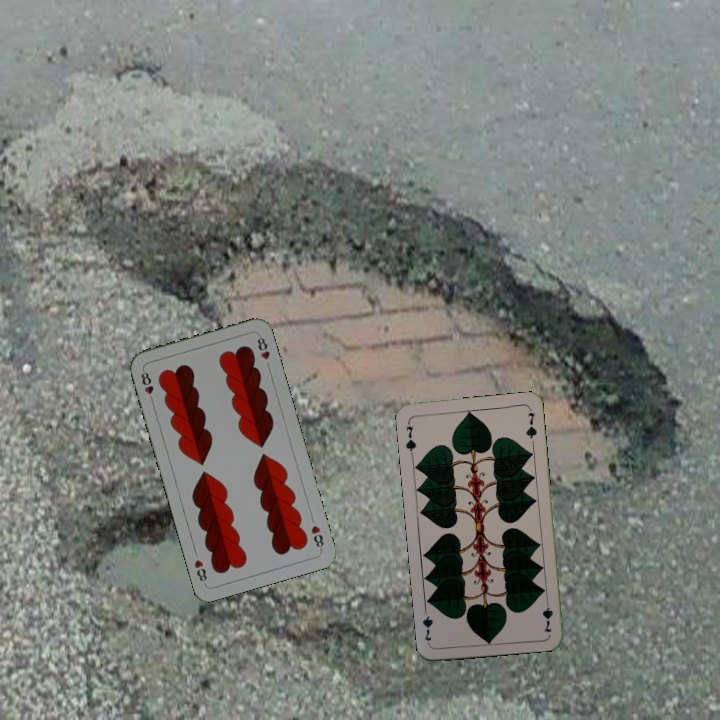G7: (538, 594, 556, 635), (402, 417, 418, 458)
H8: (137, 366, 156, 405), (307, 521, 326, 553)
